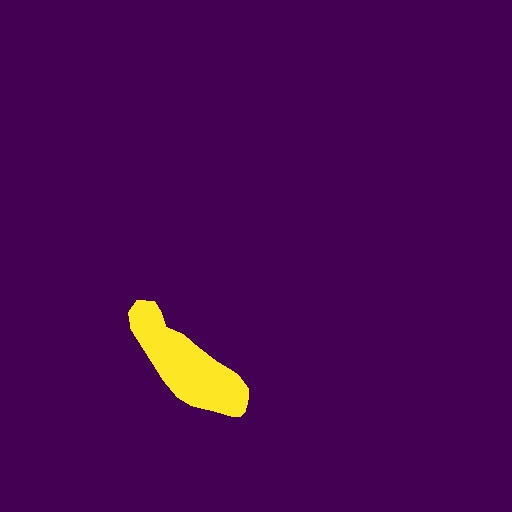Gliomia_tumour: (128, 300, 249, 417)
